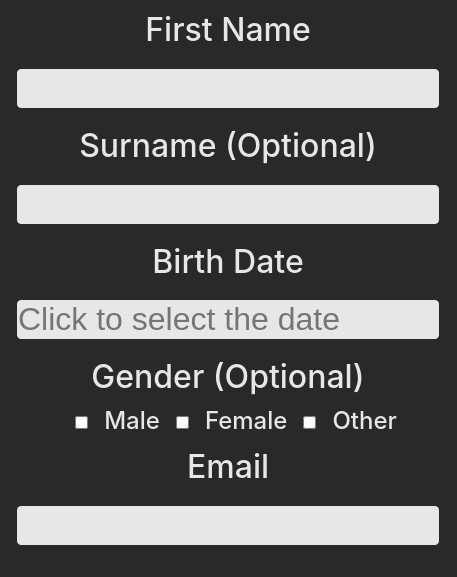
Test case: PersonForm › firstName Field › should show error on input click when input is empty
What coordinates should you click on to do the following:
click the field labelled "first name"
I would click on:
 (228, 88)
Its box is x1=17 y1=69 x2=439 y2=108.
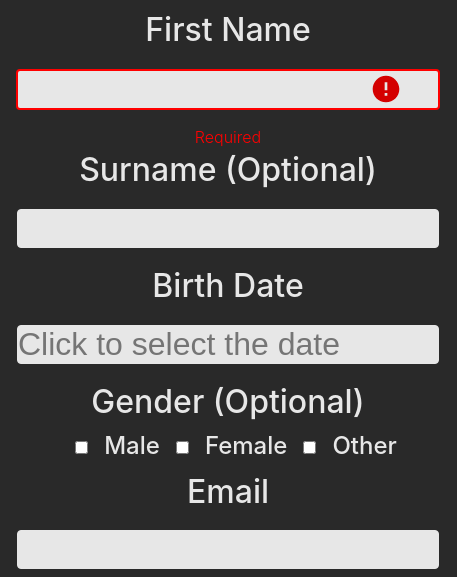
Expected: the text "Required" is shown, x1=195 y1=126 x2=261 y2=148
Expected: the text with test id "firstNameError" reads "Required", x1=195 y1=127 x2=261 y2=147
